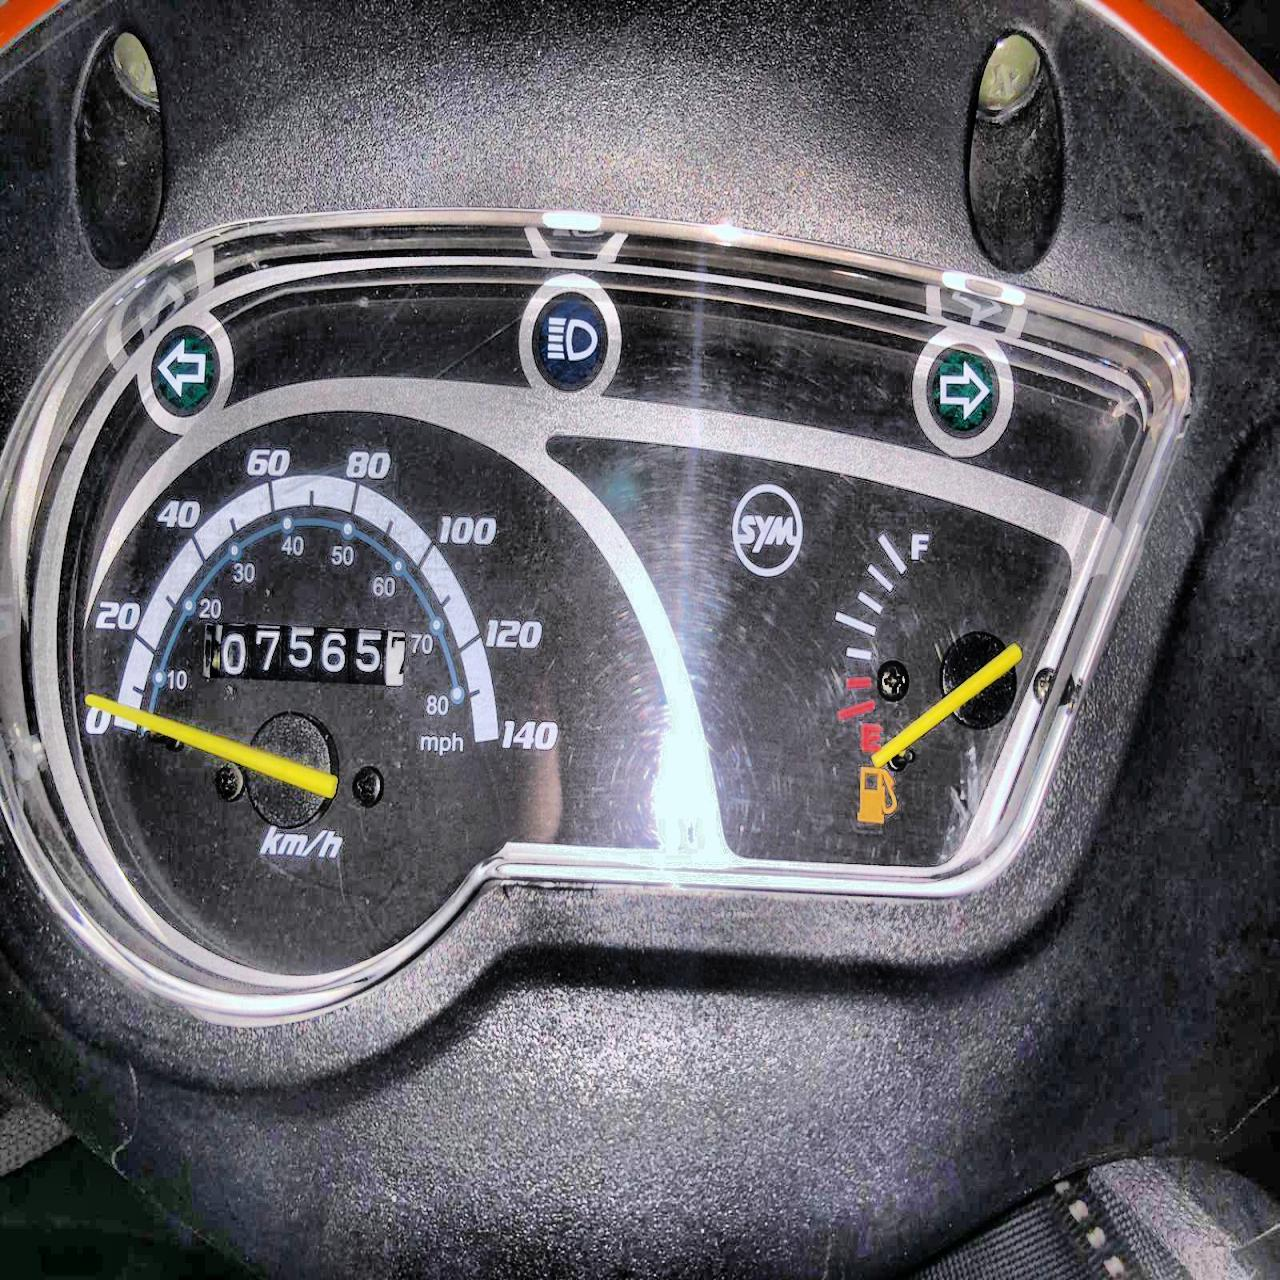0: (222, 629, 248, 674)
5: (354, 629, 381, 678), (286, 624, 313, 669)
6: (321, 628, 347, 673)
7: (387, 629, 410, 679), (256, 624, 279, 670)
odometer: (209, 617, 413, 697)
